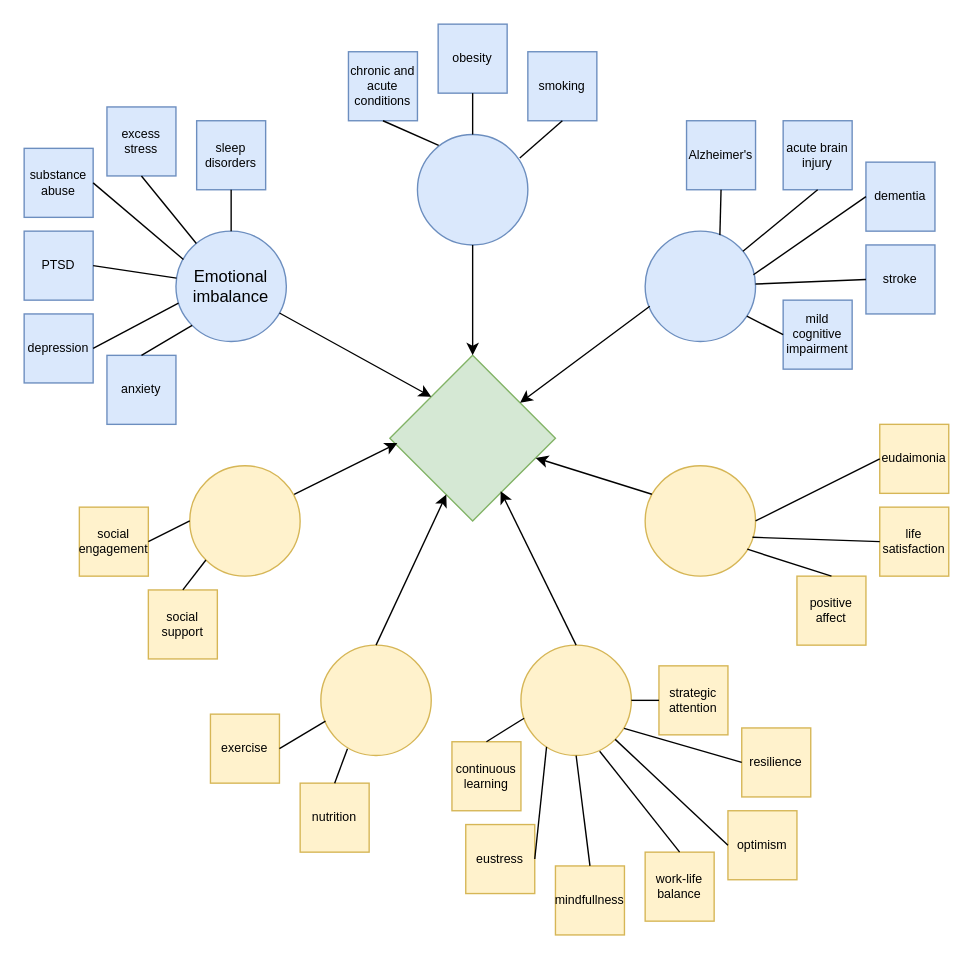
Image size: 973x959. Some labels were removed from this diagram. Here are the shapes that lost their labels. From the top down, the centre of each, then its label:
point 472,189: Cognitive deficit due to poor physical health
point 700,286: Neurological disease and injury
point 471,437: Brain health and performance
point 244,520: Social engagement and support
point 700,520: Well-being
point 375,700: Cognitive benefits of good physical health
point 575,700: Good brain health habits
